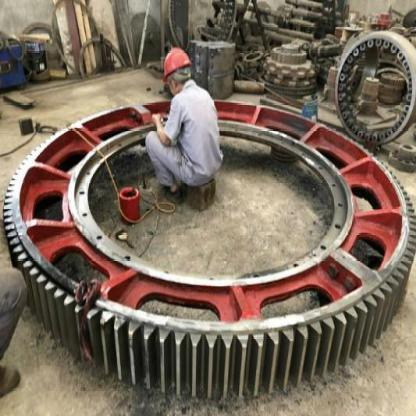FOD: (2, 88, 416, 400)
